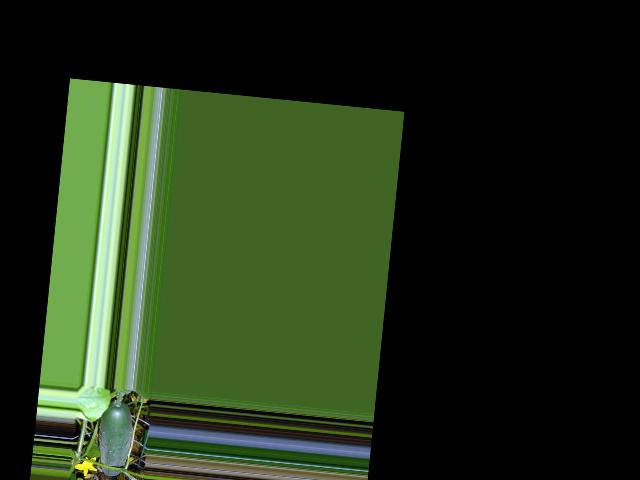cucumber: (95, 398, 135, 477)
